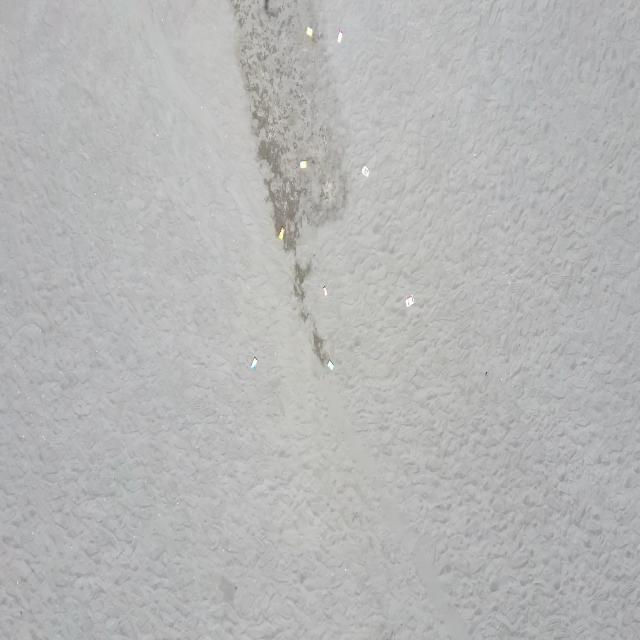retort-pouch: (405, 293, 415, 309), (361, 164, 370, 178), (336, 28, 343, 44), (326, 358, 334, 372), (299, 158, 307, 172), (250, 356, 258, 370), (278, 228, 285, 242), (306, 26, 313, 38), (322, 284, 328, 298)
